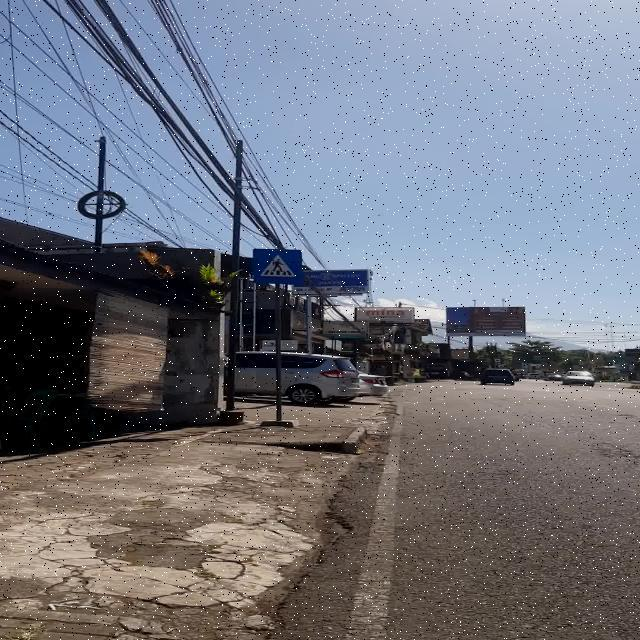Perintah Jalur Penyebrangan: (253, 248, 302, 284)
